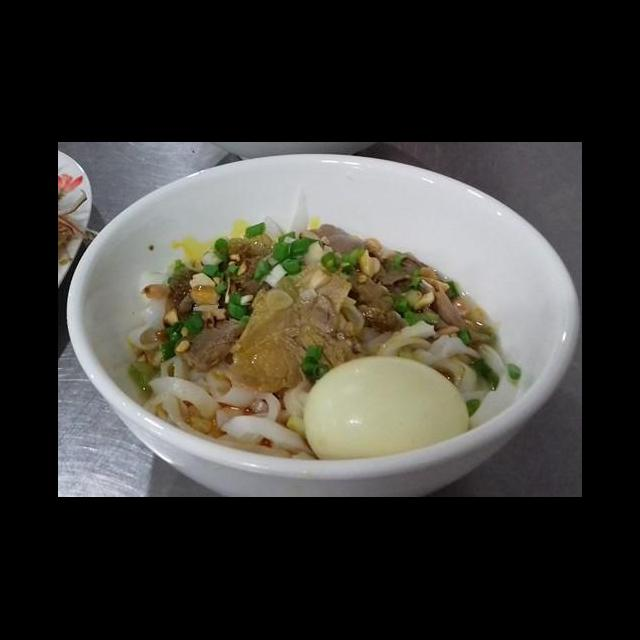mi: (139, 352, 321, 464), (356, 320, 518, 432)
thit heo: (223, 258, 370, 394), (162, 264, 257, 372)
trung: (298, 354, 471, 464)
